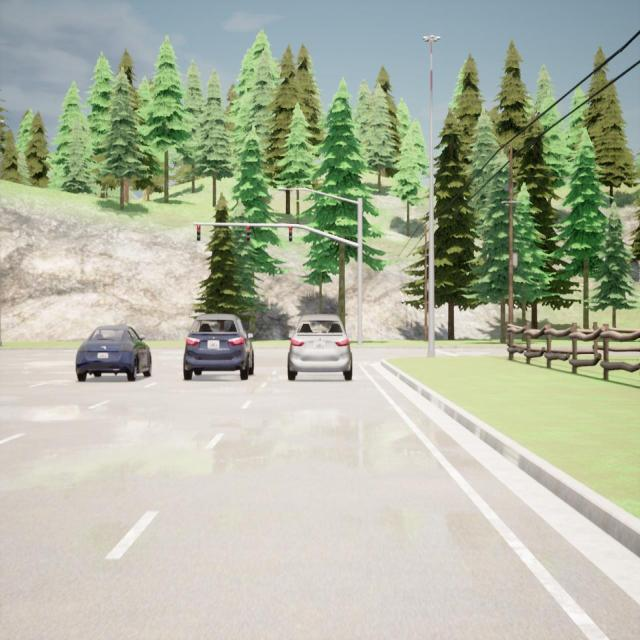Vehicle: (183, 313, 255, 381), (74, 324, 153, 382), (287, 312, 353, 381)
traffic_light: (197, 224, 201, 242), (247, 225, 250, 242), (289, 226, 292, 242)
